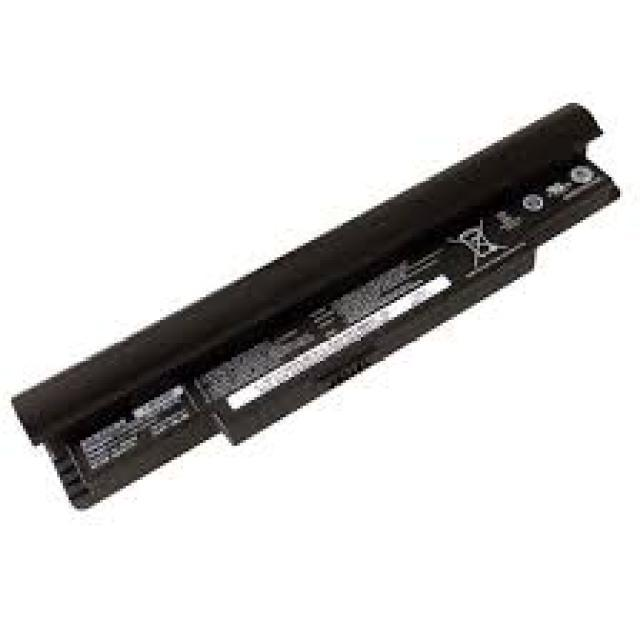Battery: (14, 92, 626, 542)
